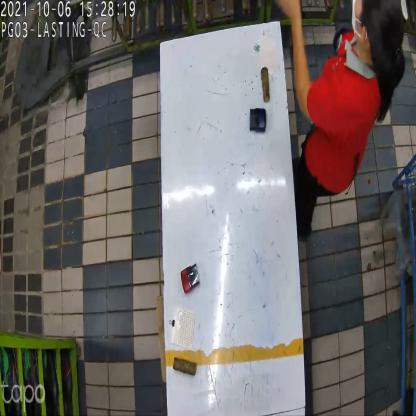stamp: (182, 260, 201, 298), (249, 104, 266, 138)
